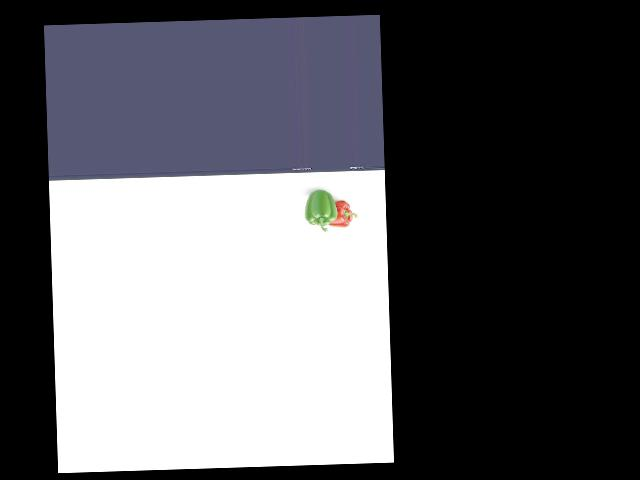bell_pepper: (326, 200, 357, 231)
